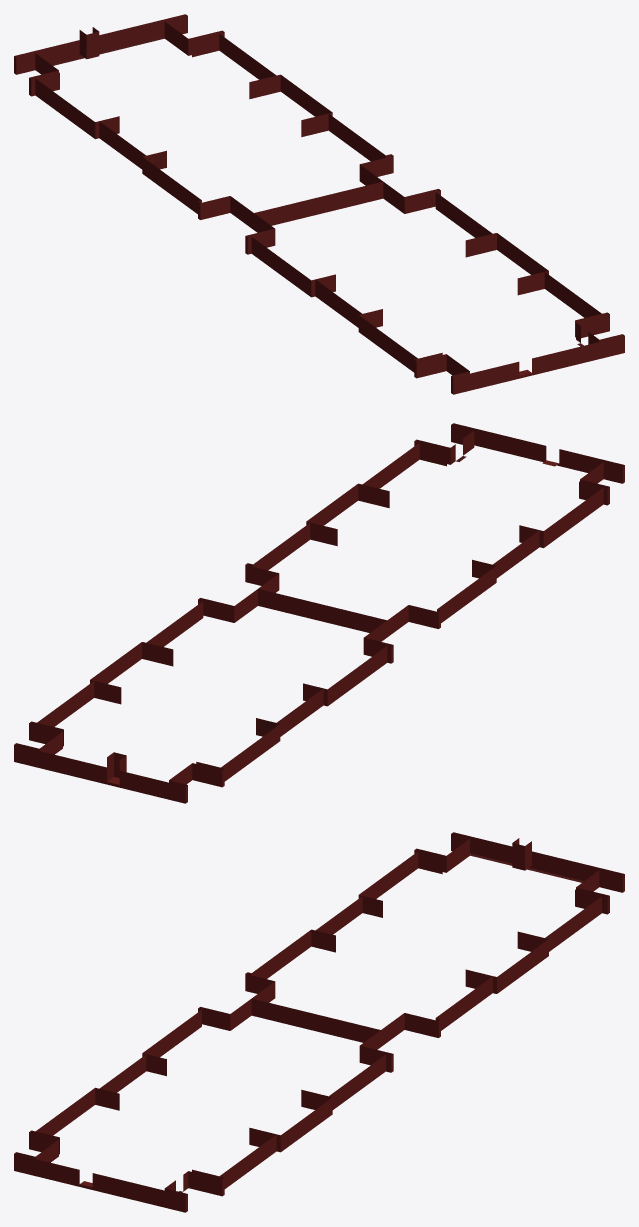
Rendered from Fundament.fbx.
3 views of the same model, one above another, from view 1: azimuth 30°, elevation 25°; view 2: azimuth 150°, elevation 25°; view 3: azimuth 330°, elevation 25° (orthographic).
Parts seen in each view (by area): view 1: Basement.003, Basement.002; view 2: Basement.003, Basement.002; view 3: Basement.003, Basement.002.
Part boxes in pixels (x1,y1,x2,y2): Basement.003: [14, 14, 393, 229]; Basement.002: [245, 182, 624, 394]; Basement.003: [14, 589, 393, 803]; Basement.002: [245, 423, 624, 637]; Basement.003: [245, 832, 624, 1046]; Basement.002: [14, 998, 393, 1212].
Size of the model in its own units: 1420 by 192 by 5588.
